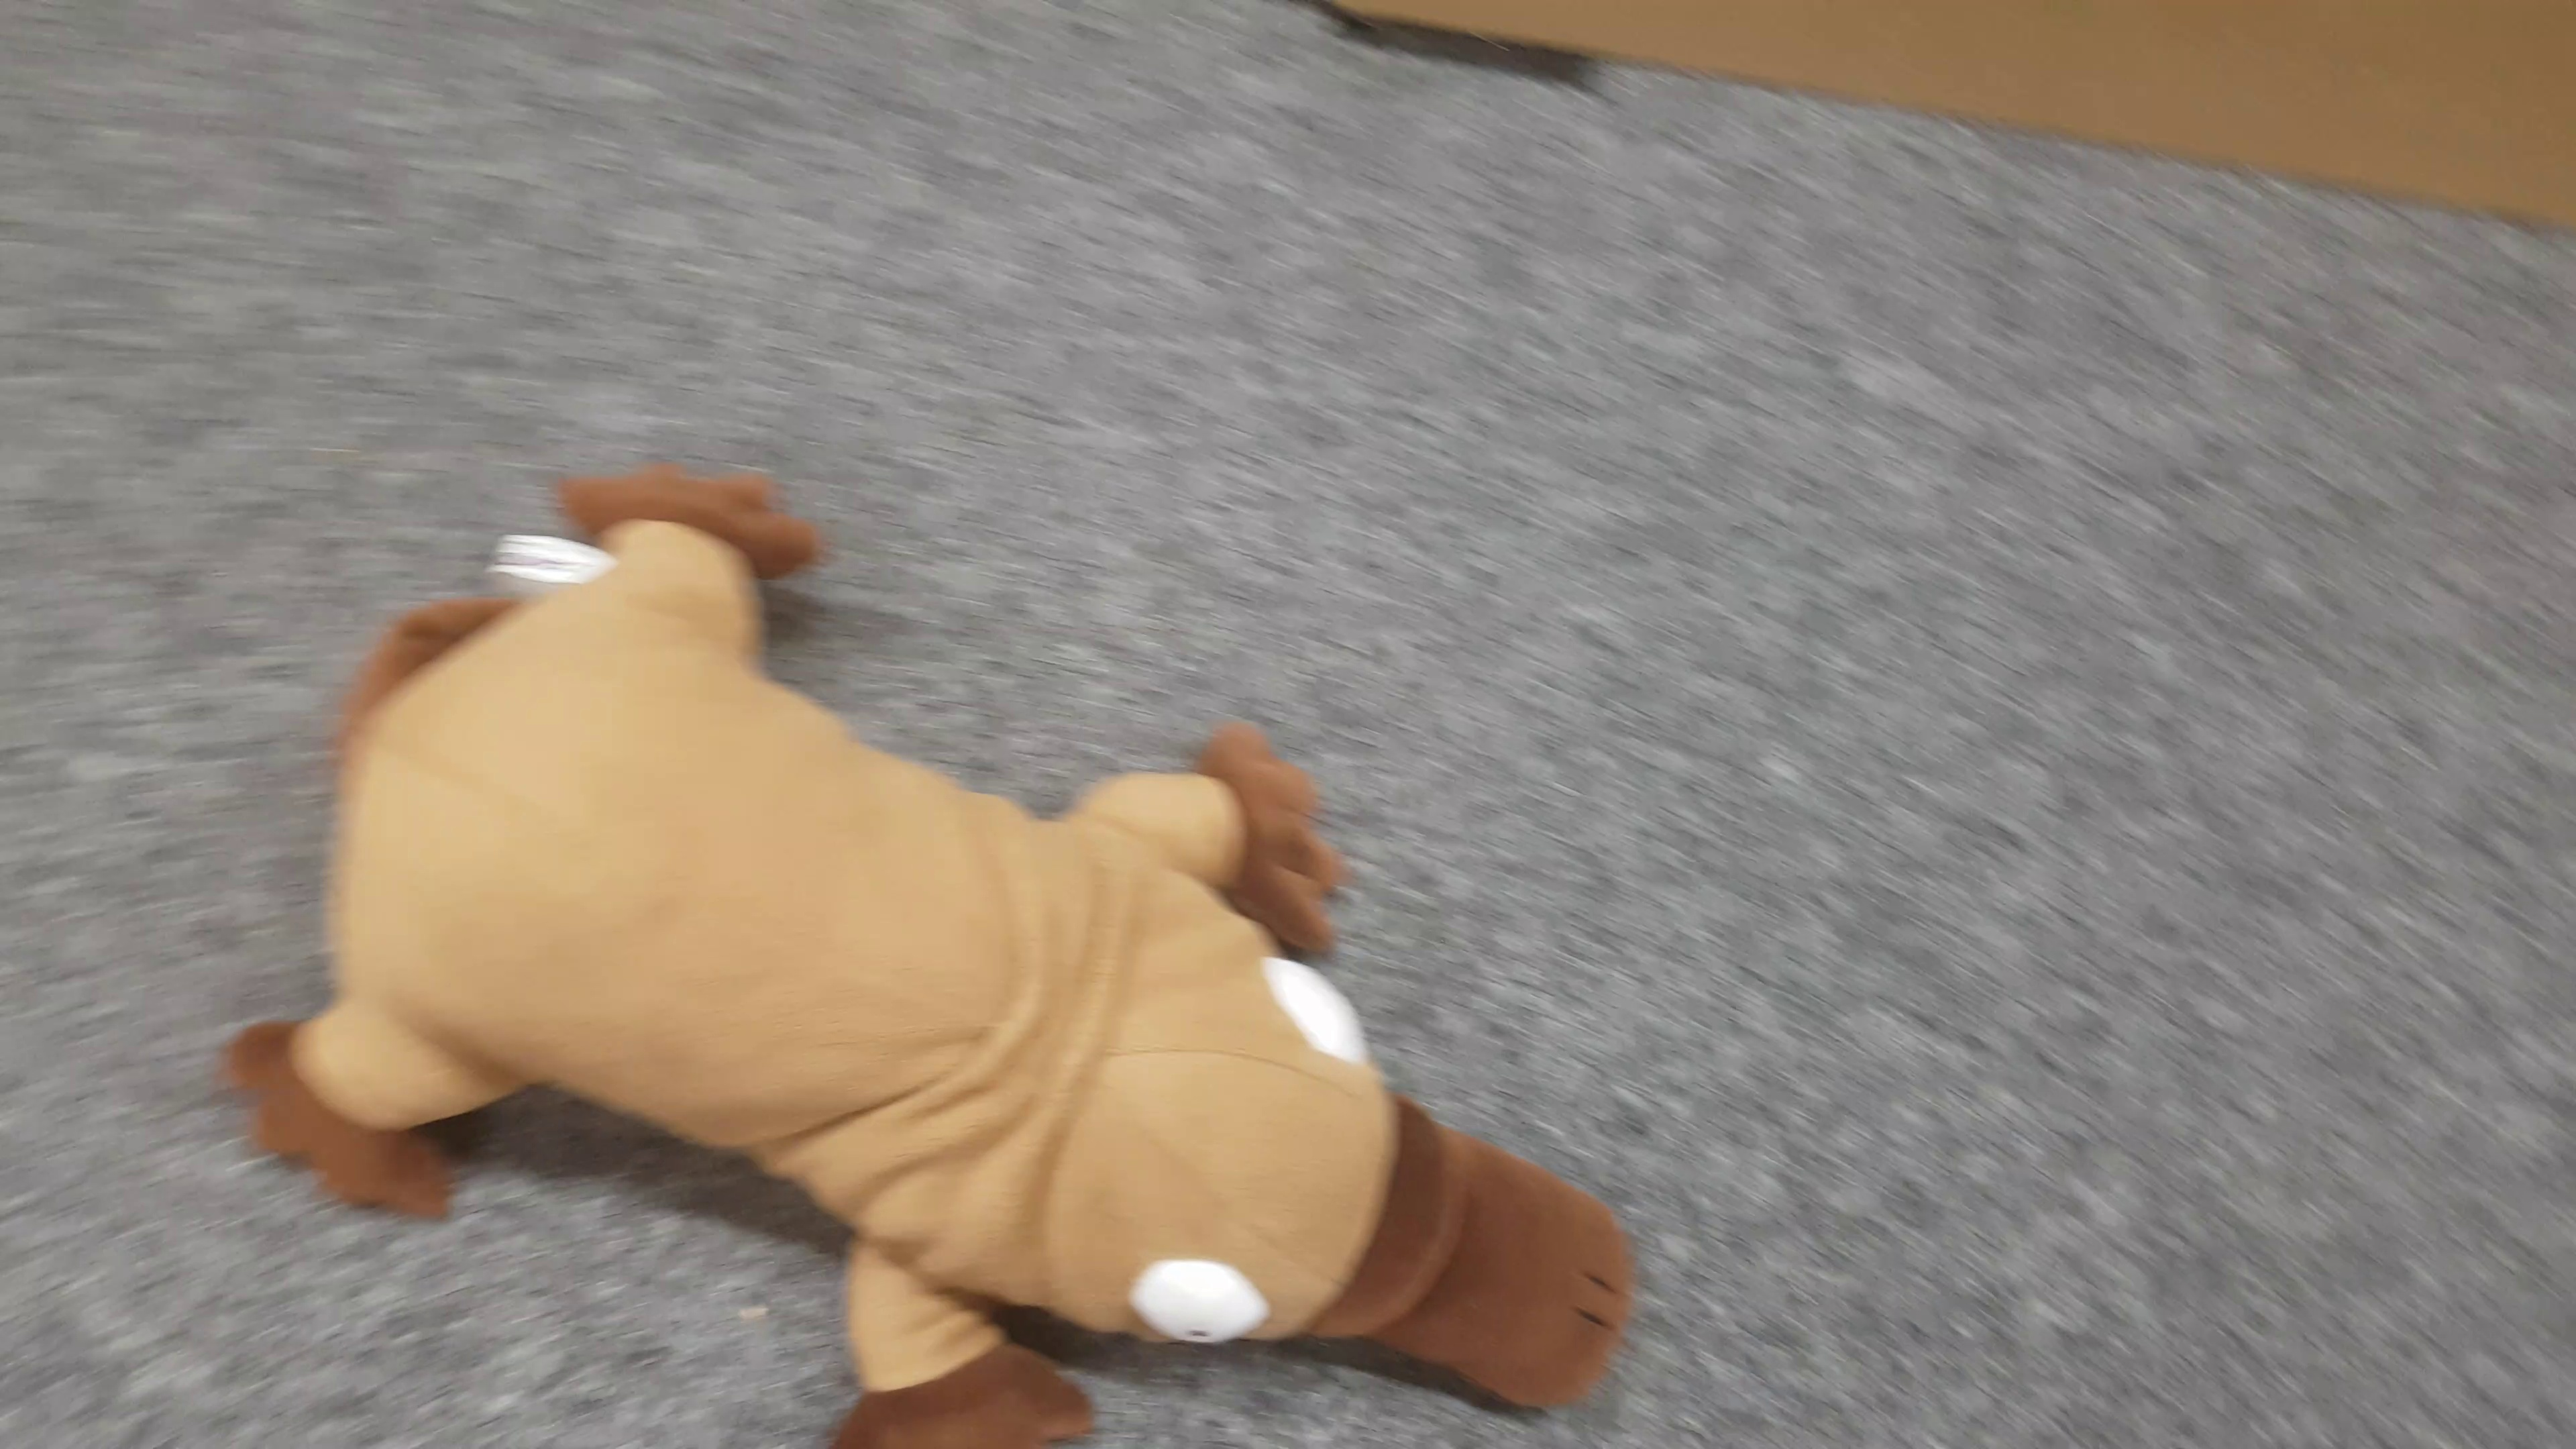grasp: (226, 456, 1631, 1449)
